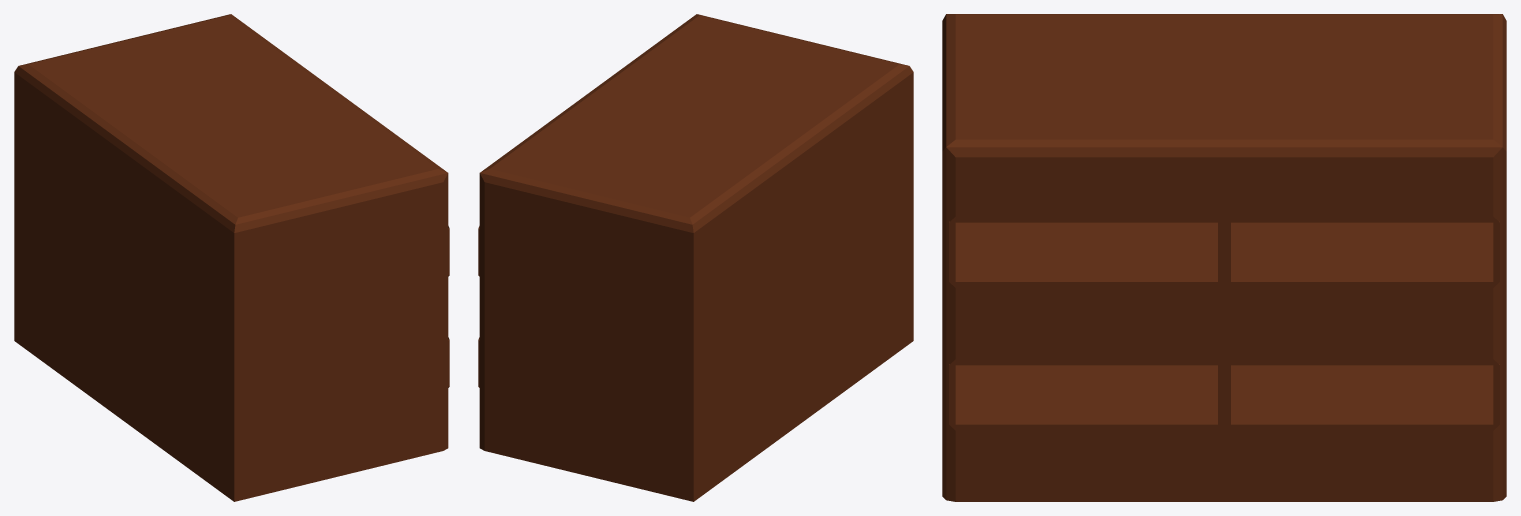
The model's file is Tumba.fbx.
3 renders of one model, left to right at view 1: azimuth 30°, elevation 25°; view 2: azimuth 150°, elevation 25°; view 3: azimuth 270°, elevation 25°, orthographic. The views are drawn at different scales.
Visible parts, largest first — view 1: Cube.002; view 2: Cube.002; view 3: Cube.002.
Part boxes in pixels (box(x1,y1,x2,y2)): Cube.002: box(14, 14, 449, 501); Cube.002: box(478, 14, 913, 501); Cube.002: box(942, 14, 1506, 501).
Bounding box in the file's own units: 243 × 296 × 424.
